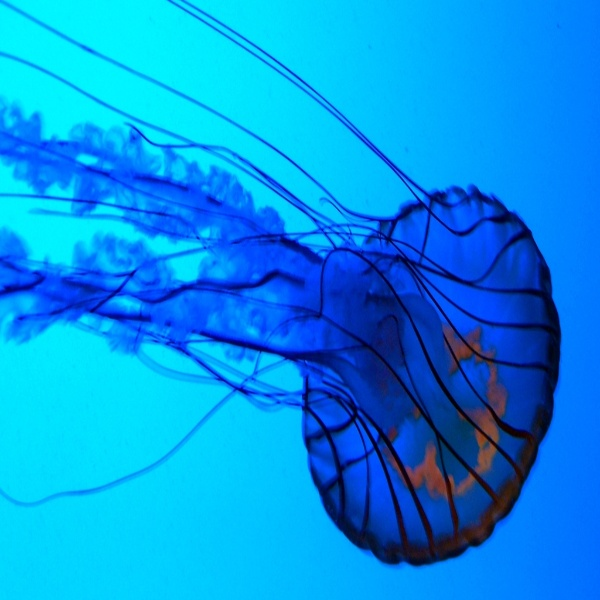Jellyfish: (0, 0, 561, 565)
